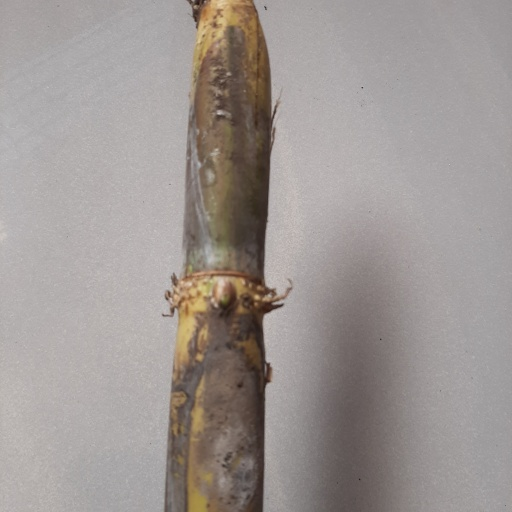Bud: (212, 278, 236, 314)
